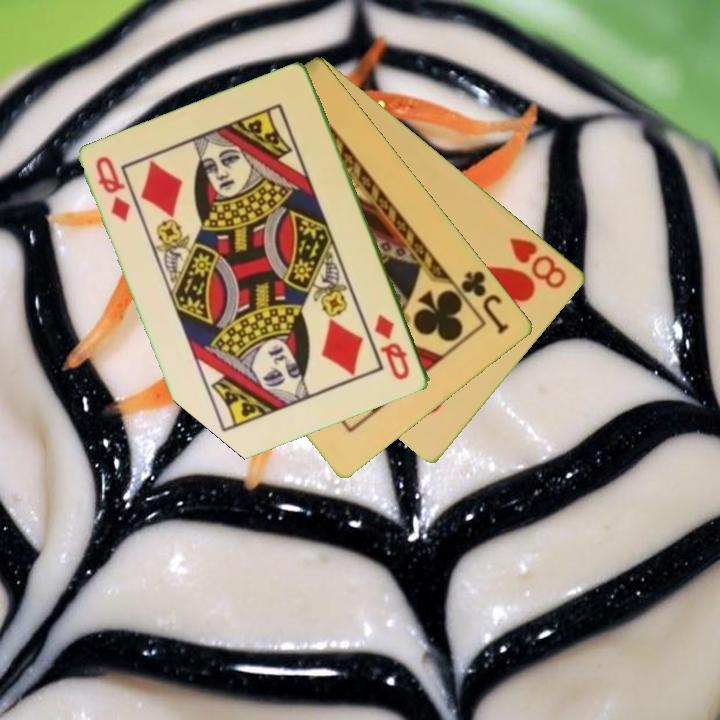8h: (506, 234, 570, 292)
Jc: (449, 267, 513, 337)
Qd: (371, 310, 413, 384), (92, 153, 134, 225)
